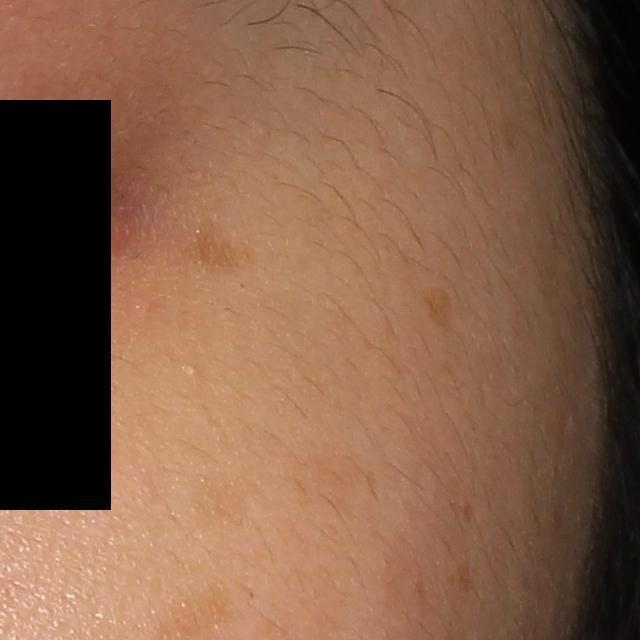melasma: (178, 205, 256, 280), (417, 283, 454, 339)
